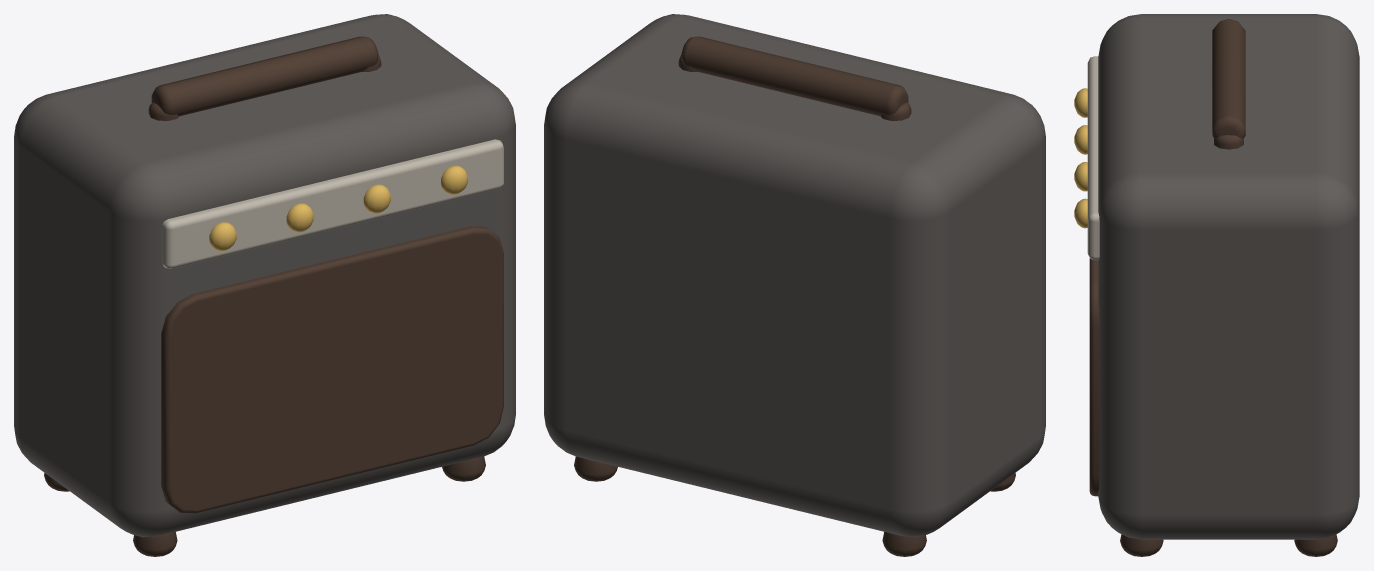
The model's file is practice_amp.glb.
3 views of the same model, side by side, from view 1: azimuth 30°, elevation 25°; view 2: azimuth 150°, elevation 25°; view 3: azimuth 270°, elevation 25° (orthographic). The views are drawn at different scales.
Visible parts, largest first — view 1: practice_amp_mesh; view 2: practice_amp_mesh; view 3: practice_amp_mesh.
Boxes of the visible parts, x1,y1,x2,y2 form: practice_amp_mesh: (14,14,515,556); practice_amp_mesh: (544,14,1045,556); practice_amp_mesh: (1074,14,1359,556).
Bounding box in the file's own units: 0.52 × 0.52 × 0.3274.
